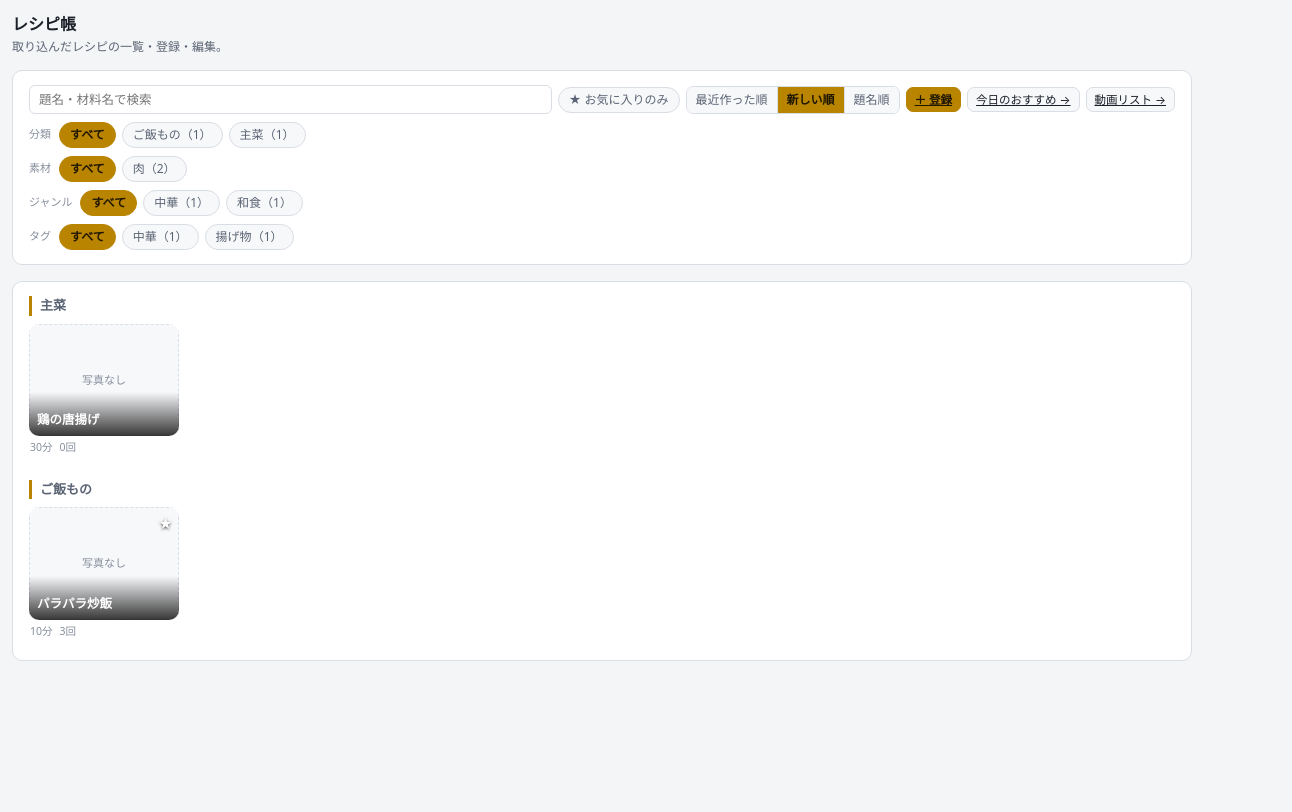
Test: kitchen recipes — 一覧（ADR-015 D4・§6 D4'・D9） › 検索欄は題名だけでなく材料名にも一致し、タグの chip で絞り込める
This screenshot has width=1292, height=812.
Expected: the text "パラパラ炒飯" is shown, [29, 576, 179, 620]
Expected: the text "鶏の唐揚げ" is shown, [29, 392, 179, 436]
材料名（題名には出てこない「しょうが」）で検索すると、炒飯だけが残る。
Step 1. Type "しょうが" into the field with placeholder "題名・材料名で検索" → (290, 100), box [29, 85, 552, 114]
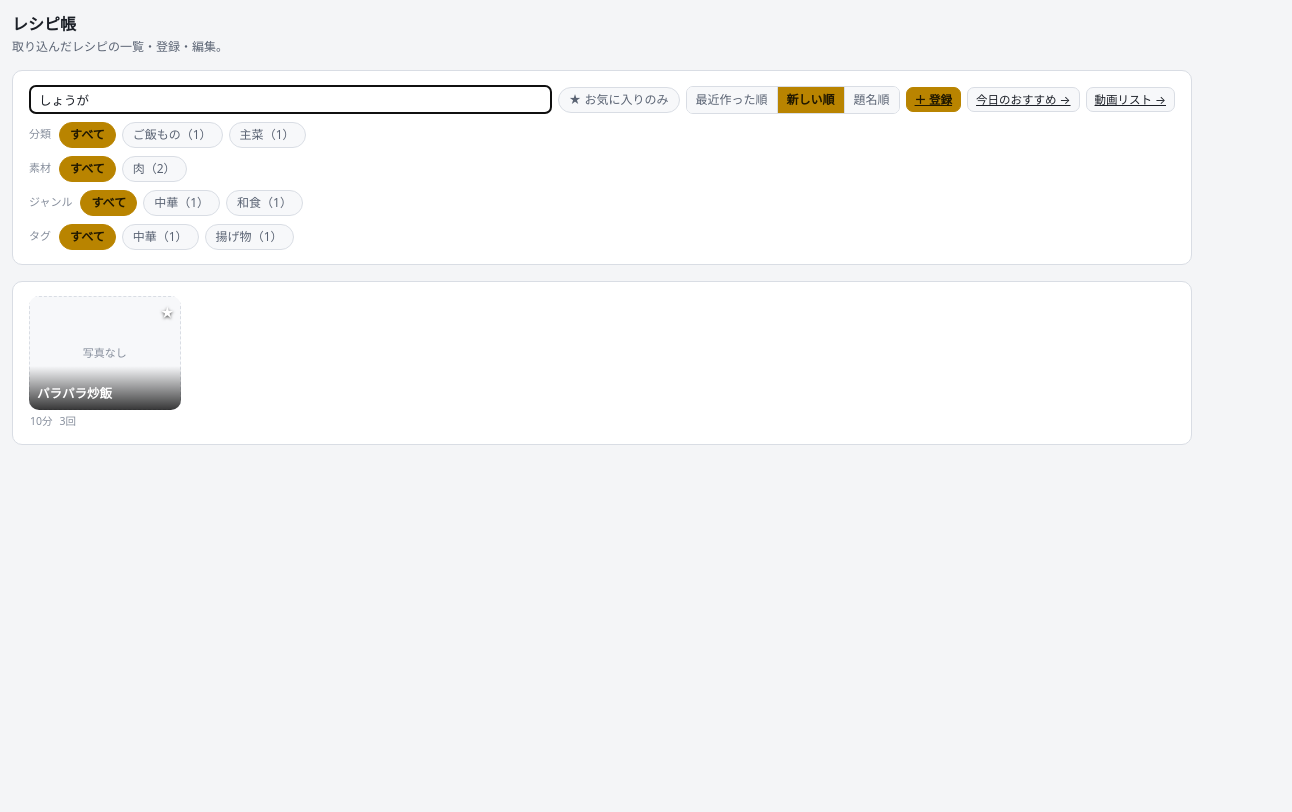
Expected: the text "パラパラ炒飯" is shown, [29, 366, 181, 410]
Now the link "鶏の唐揚げ" is gone
Step 2. Clear the field with placeholder "題名・材料名で検索" → (290, 100), box [29, 85, 552, 114]
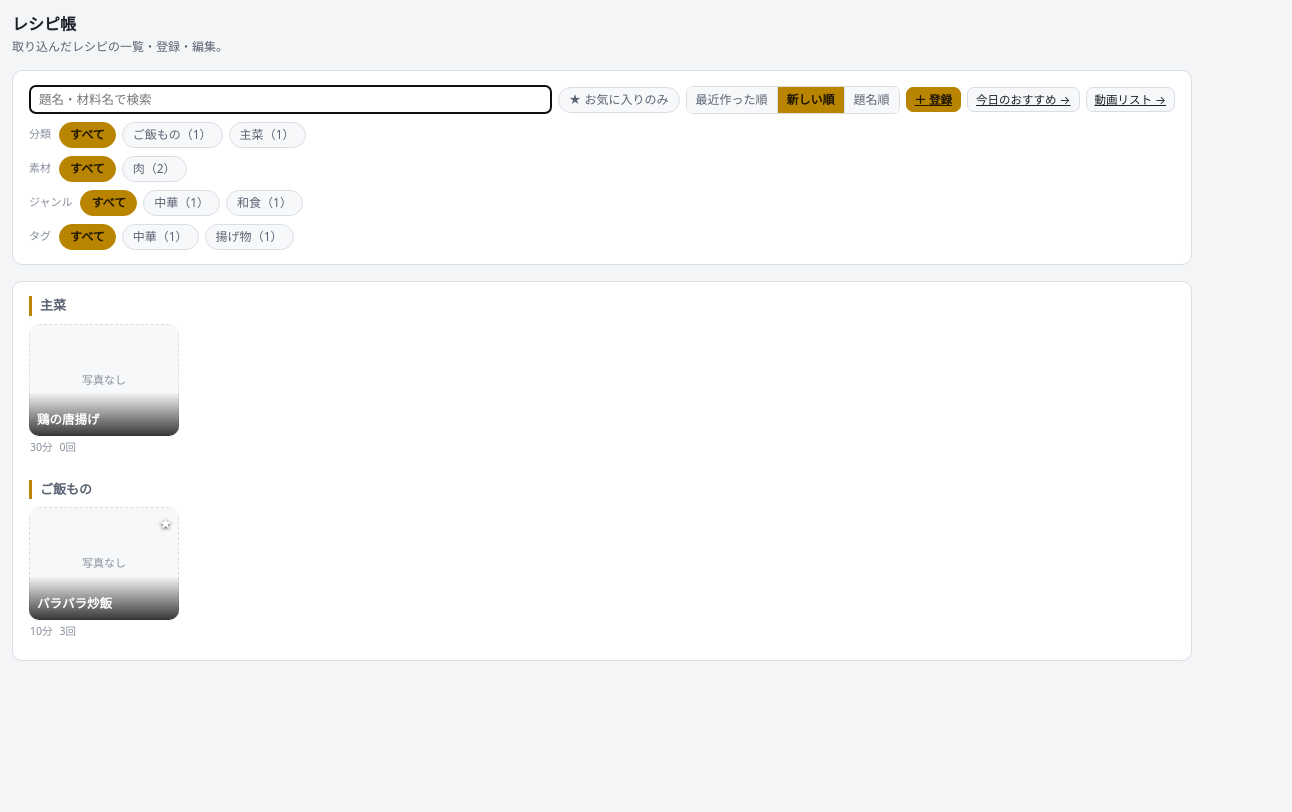
Now the text "鶏の唐揚げ" is shown, box [29, 392, 179, 436]
タグ「揚げ物」を押すと唐揚げだけになる。
Step 3. Click the button "揚げ物（1）" → (249, 237), box [205, 224, 294, 250]
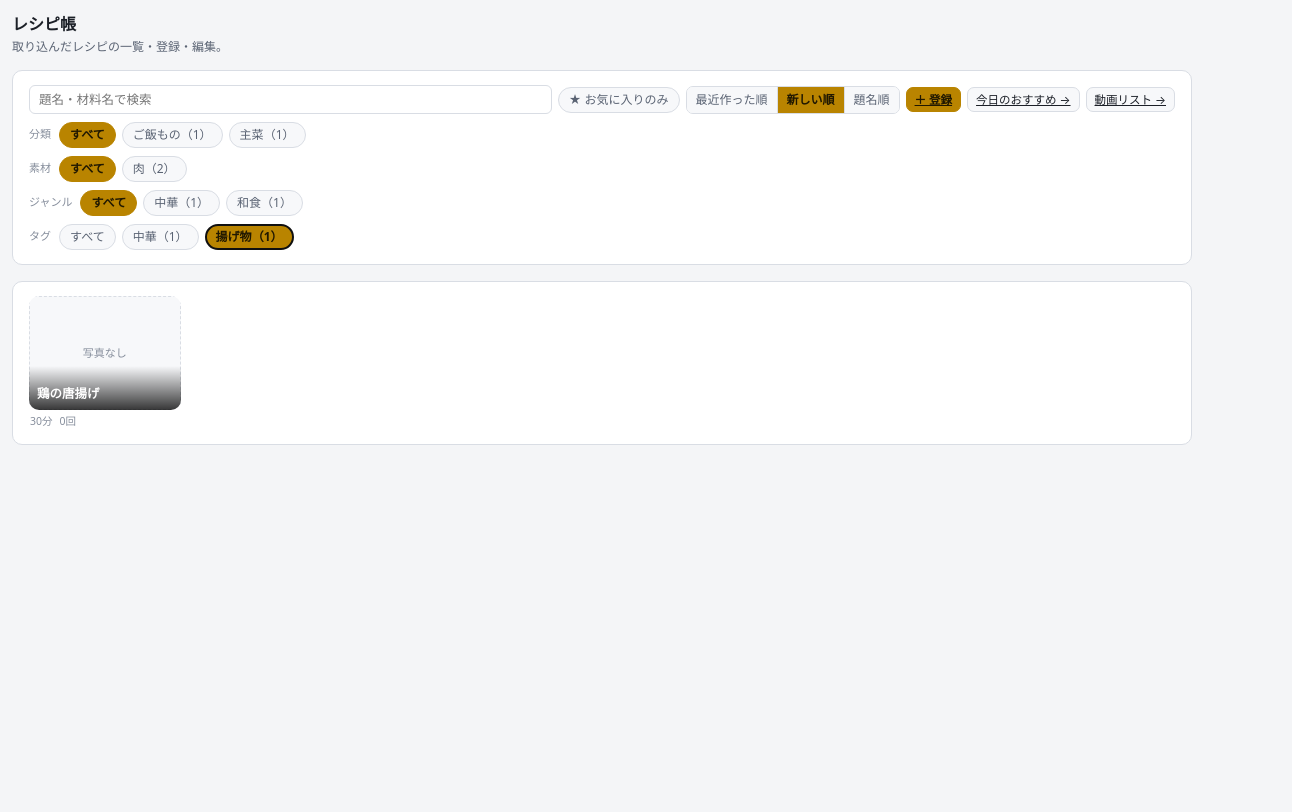
Now the text "鶏の唐揚げ" is shown, box [29, 366, 181, 410]
Now the link "パラパラ炒飯" is gone
